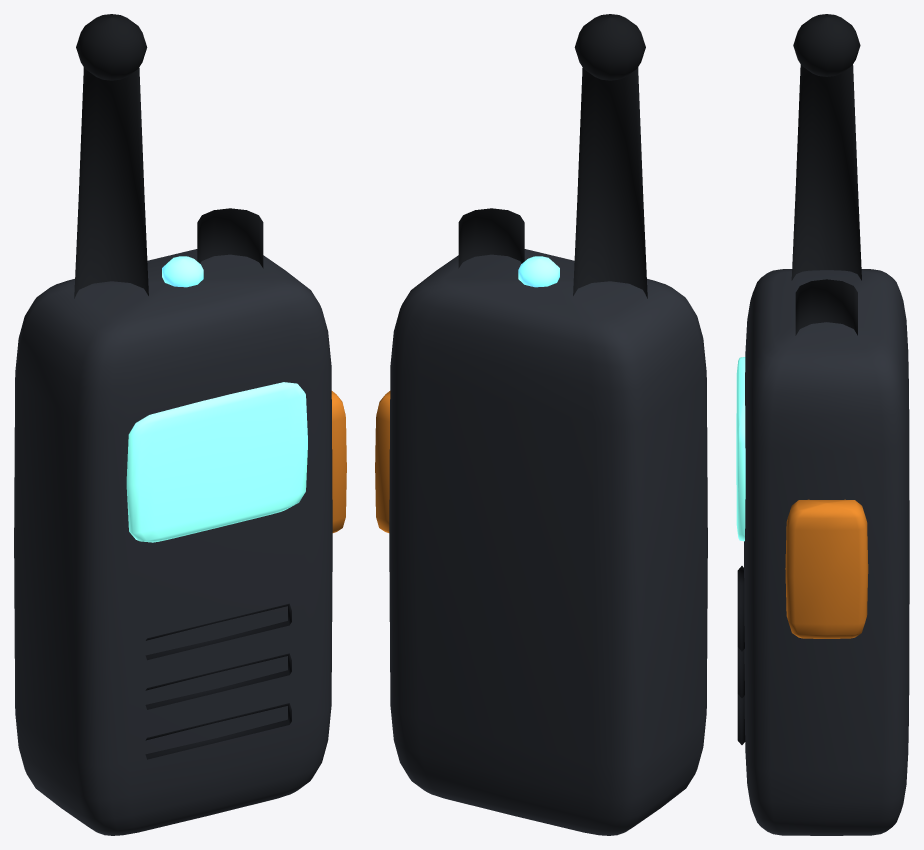
The model's file is hand_bxradio.glb.
The picture shows the model from 3 angles, left to right: view 1: azimuth 30°, elevation 25°; view 2: azimuth 150°, elevation 25°; view 3: azimuth 270°, elevation 25°; orthographic projection. The views are drawn at different scales.
Visible parts, largest first — view 1: hand_radio; view 2: hand_radio; view 3: hand_radio.
Boxes of the visible parts, x1,y1,x2,y2 form: hand_radio: (14,14,346,835); hand_radio: (375,14,707,835); hand_radio: (736,14,909,835).
Bounding box in the file's own units: 0.78 × 2.08 × 0.4355.
